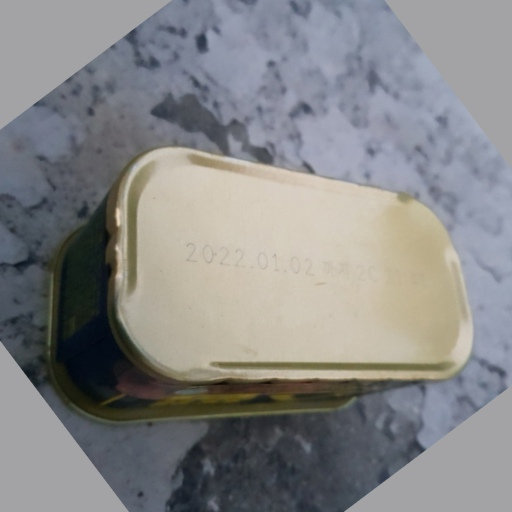Metal_2: (41, 148, 474, 420)
